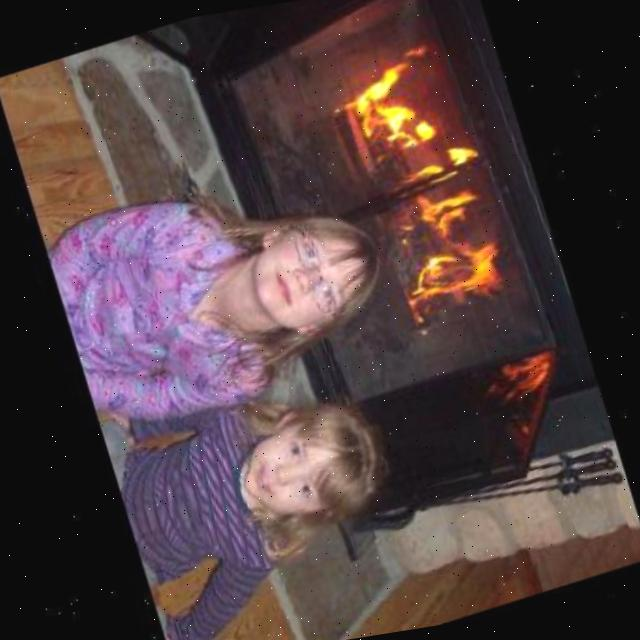fire: (323, 26, 534, 346), (482, 342, 578, 431)
